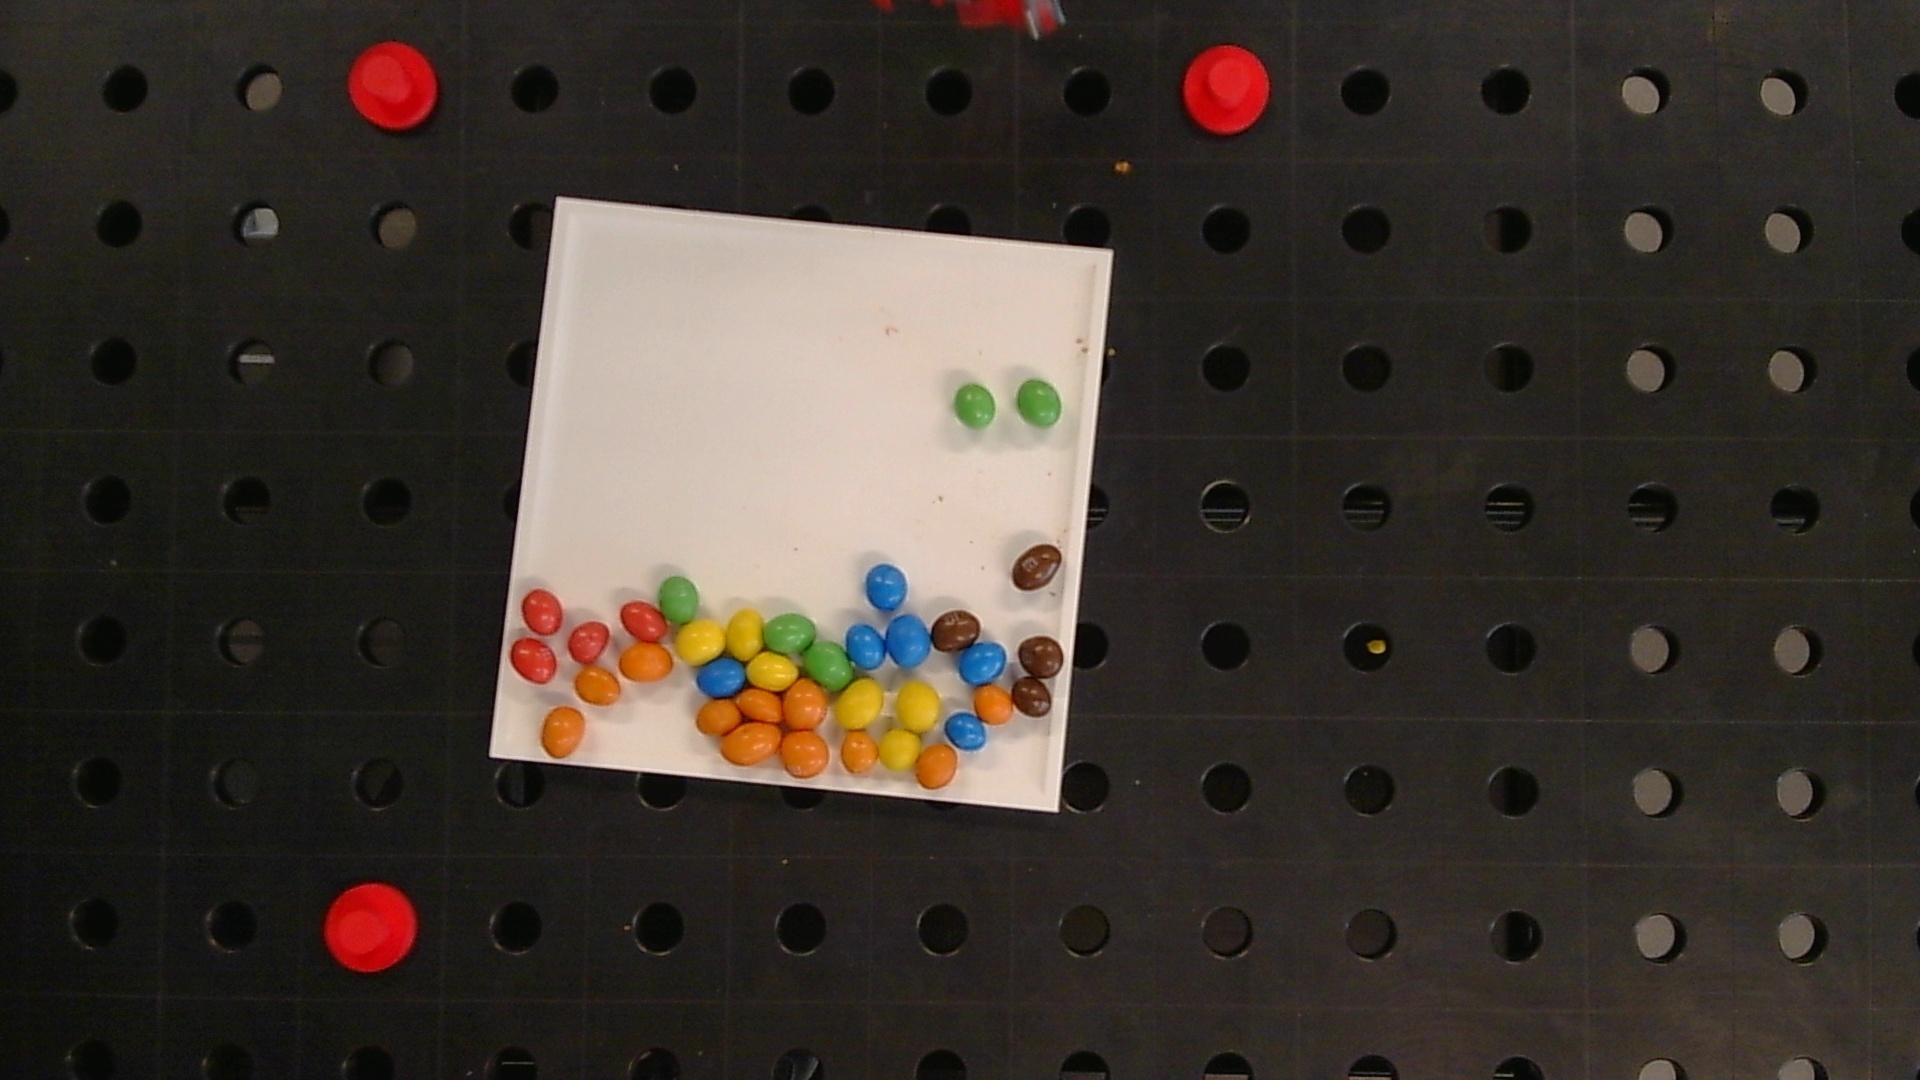blue: (887, 615, 931, 666), (957, 642, 1006, 684), (698, 657, 746, 698), (866, 564, 907, 612), (847, 624, 886, 670), (944, 712, 986, 750)
brown: (1011, 542, 1063, 591), (931, 609, 981, 651), (1018, 636, 1064, 678), (1011, 678, 1054, 717)
green: (803, 641, 853, 690), (1017, 380, 1063, 427), (764, 613, 815, 653), (953, 384, 997, 429), (659, 576, 699, 624)
orange: (720, 721, 781, 765), (781, 731, 829, 777), (542, 707, 585, 757), (783, 680, 828, 728), (618, 644, 674, 682), (916, 745, 959, 789), (575, 667, 620, 705), (840, 732, 878, 774), (696, 699, 740, 735), (975, 686, 1014, 724), (737, 688, 781, 721)
red: (510, 638, 558, 684), (620, 600, 669, 641), (521, 589, 563, 634), (567, 621, 611, 663)
yellow: (835, 679, 884, 729), (895, 683, 940, 732), (675, 620, 724, 665), (746, 651, 798, 690), (727, 609, 764, 659), (880, 729, 920, 769)
